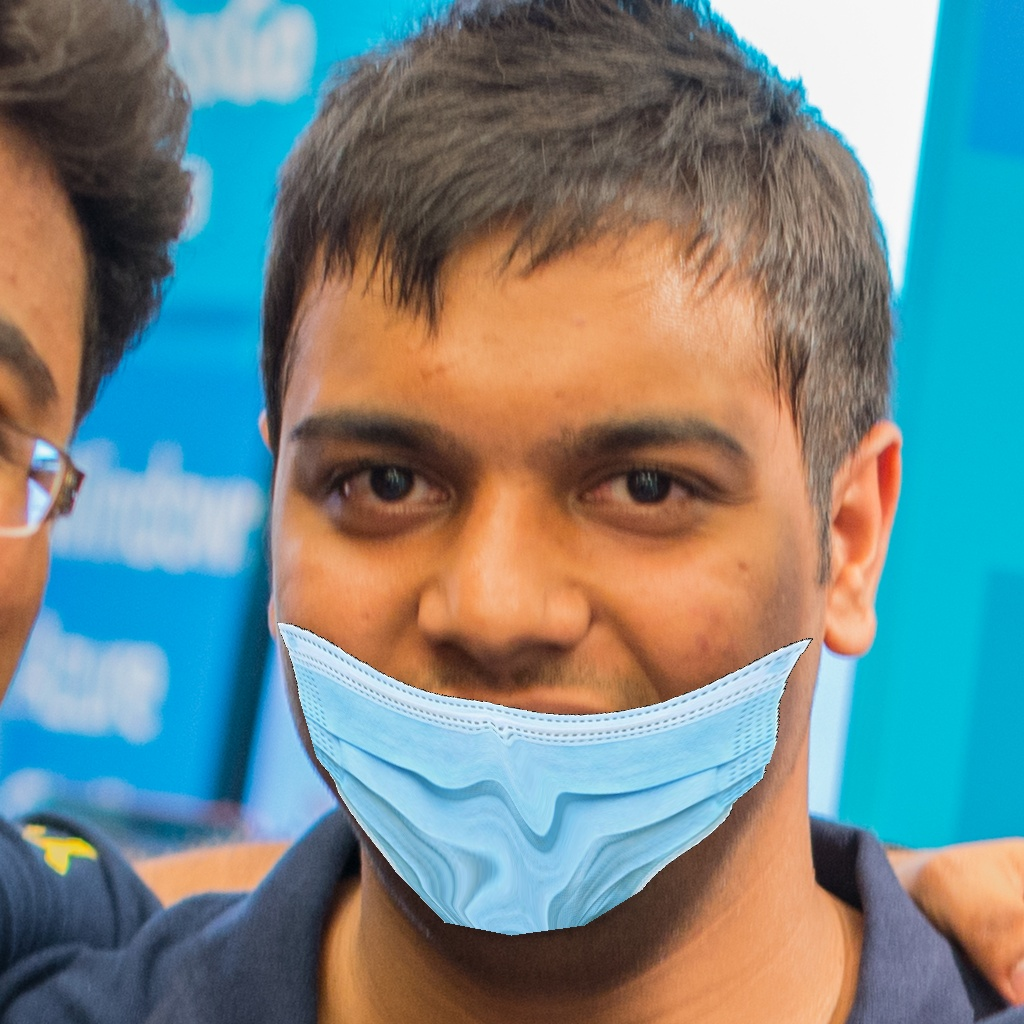mascarilla_mal_puesta: (259, 323, 847, 958)
